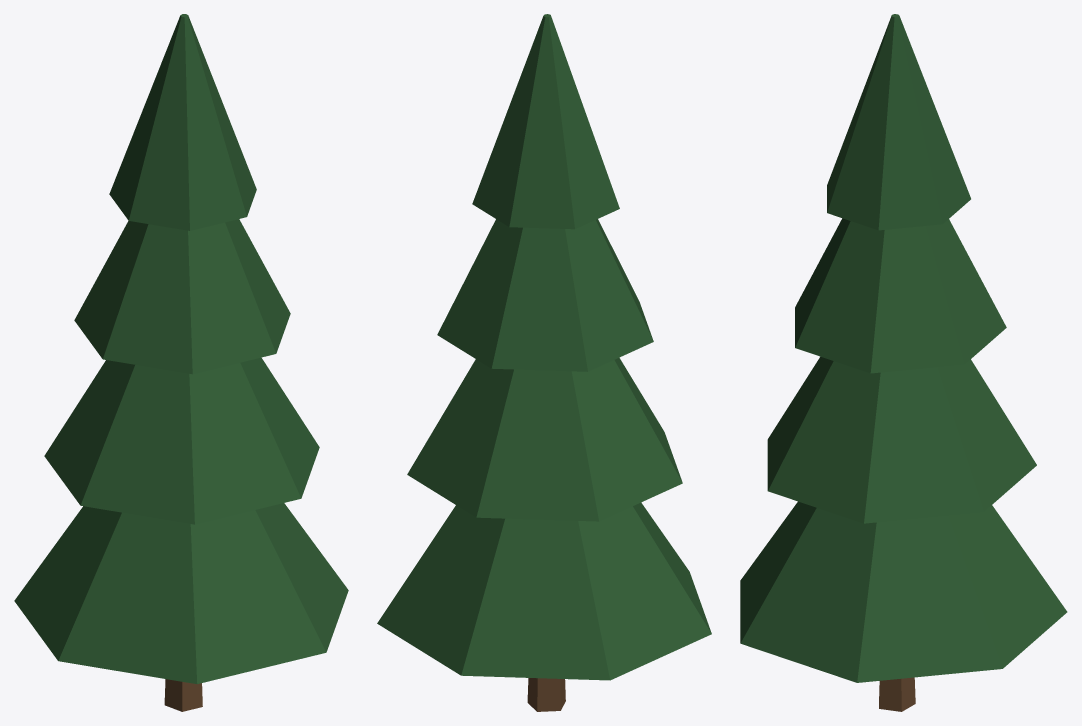
The model's file is spruce_low.glb.
3 renders of one model, left to right at view 1: azimuth 30°, elevation 25°; view 2: azimuth 150°, elevation 25°; view 3: azimuth 270°, elevation 25°, orthographic.
Visible parts, largest first — view 1: spruce_low; view 2: spruce_low; view 3: spruce_low.
Boxes of the visible parts, x1=… form: spruce_low: x1=14, y1=14, x2=348, y2=711; spruce_low: x1=377, y1=14, x2=711, y2=711; spruce_low: x1=740, y1=14, x2=1067, y2=711.
Size of the model in its own units: 3.31 by 7.5 by 3.23.
